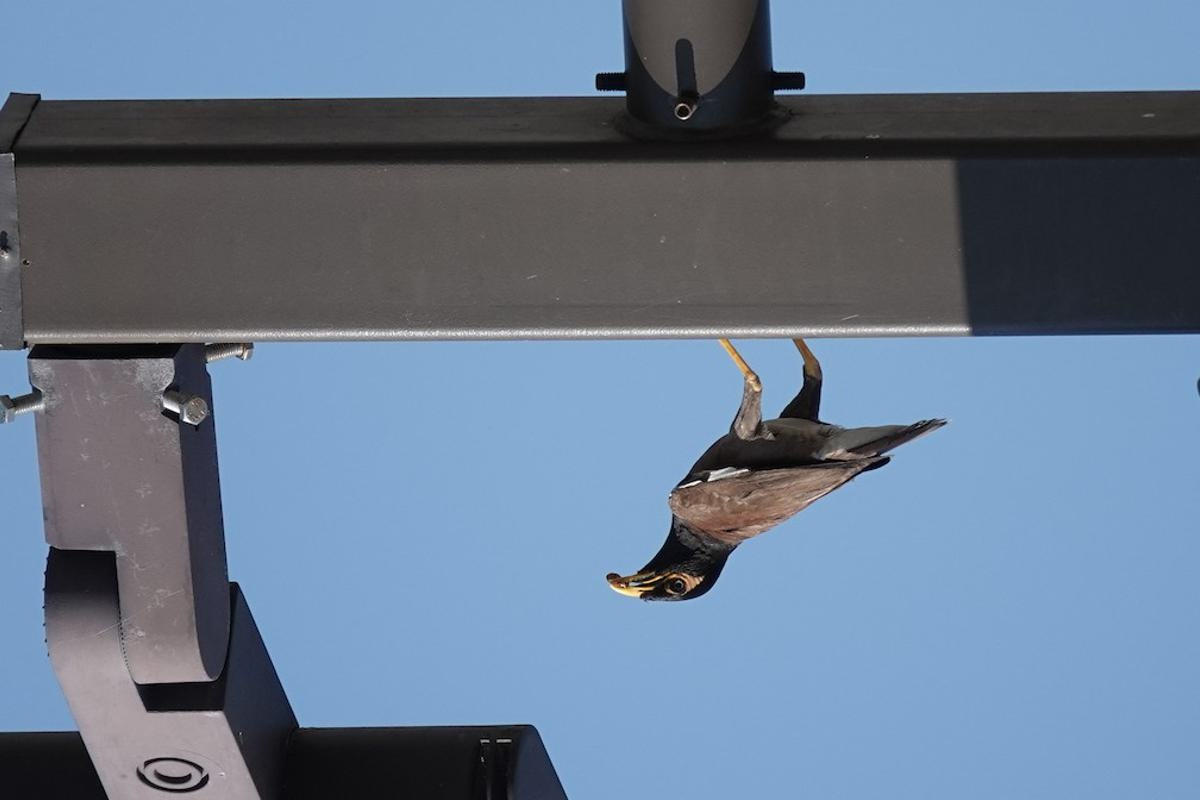myna: (536, 303, 958, 687)
